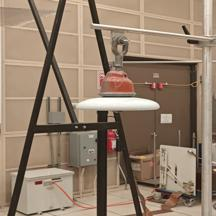insulator: (73, 68, 163, 121)
